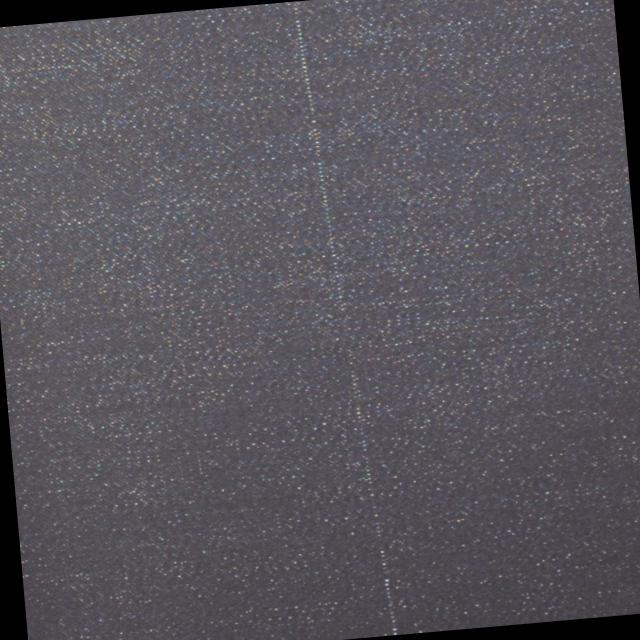Warp_Weft: (286, 0, 403, 639)
